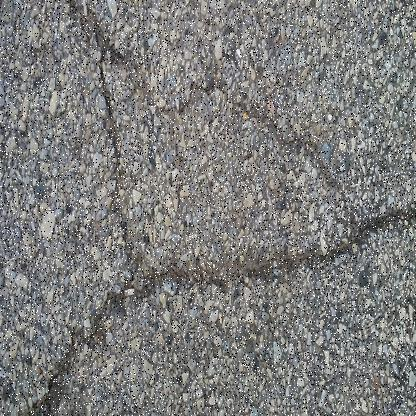Cracks: (22, 197, 416, 416), (57, 0, 352, 264)
